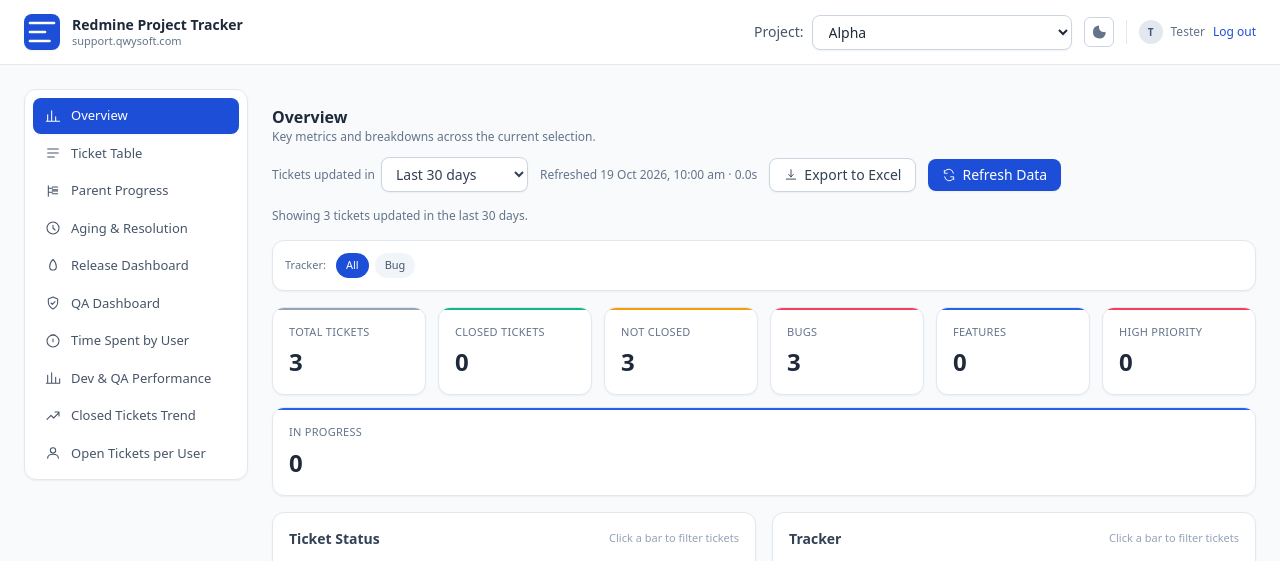
App: cancelling a load › cancelling a longer period returns to the period that was on screen
Expected: the text "Showing 3 tickets updated in the last 30 days." is shown, [272, 207, 528, 224]
// an accidental click on 6 months…
Select "Last 6 months" in the dropdown labelled "Tickets updated in": (454, 174) [381, 157, 528, 192]
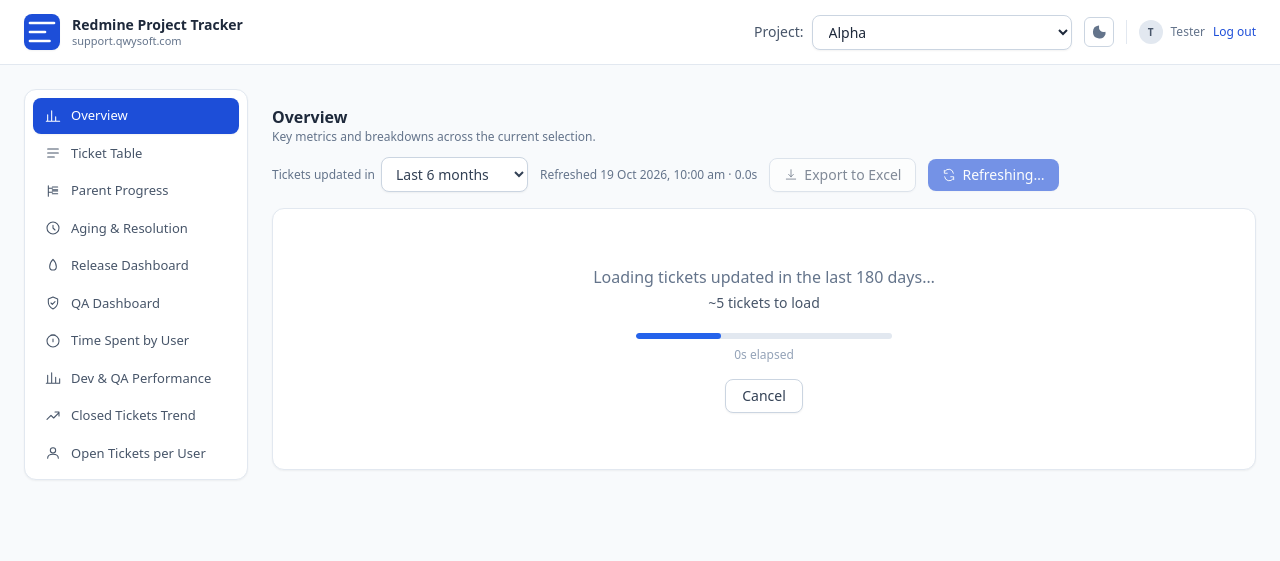
// …cancelled
Click the button "Cancel": (764, 396) [725, 379, 803, 413]
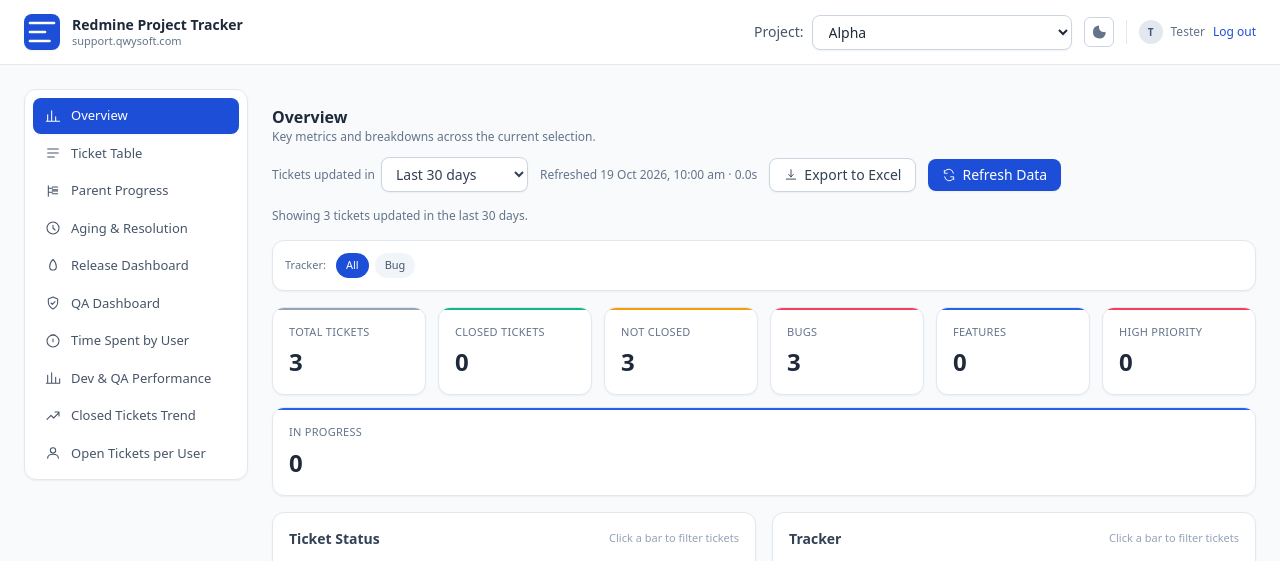
Expected: the text "Showing 3 tickets updated in the last 30 days." is shown, [272, 207, 528, 224]
